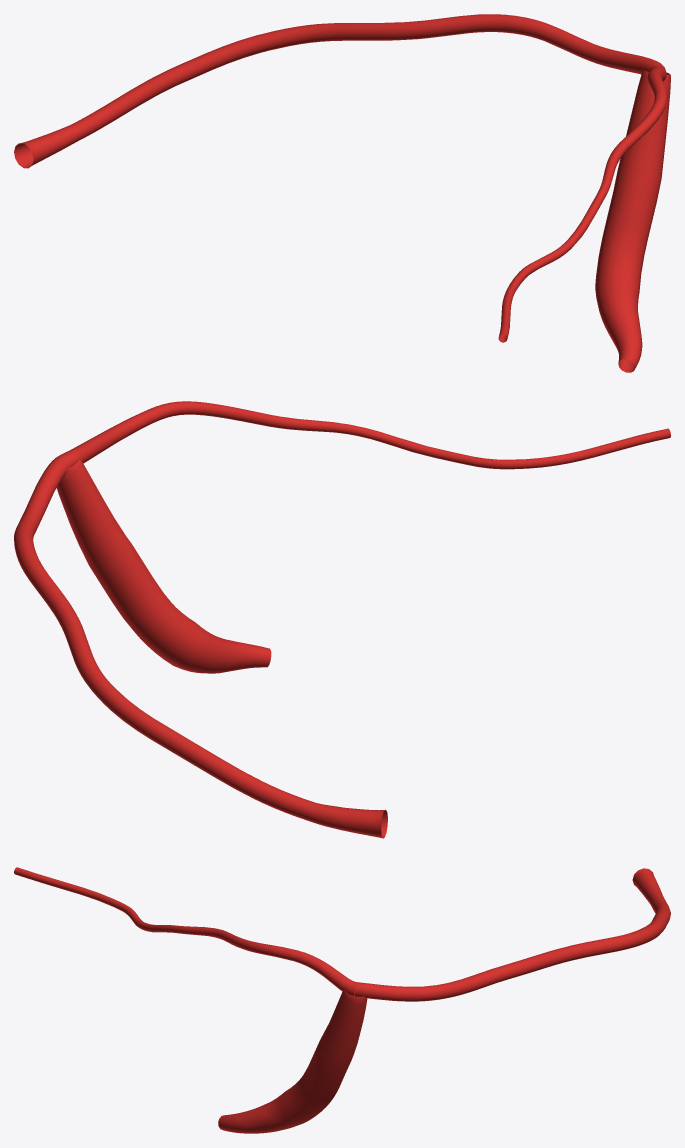
Rendered from circulatorio-sigmoid-sinus-l.glb.
3 renders of one model, top to bottom at view 1: azimuth 30°, elevation 25°; view 2: azimuth 150°, elevation 25°; view 3: azimuth 270°, elevation 25°, orthographic. The views are drawn at different scales.
Parts seen in each view (by area): view 1: Transverse sinus.l, Sigmoid sinus.l, Superior petrosal sinus.l; view 2: Sigmoid sinus.l, Transverse sinus.l, Superior petrosal sinus.l; view 3: Sigmoid sinus.l, Transverse sinus.l, Superior petrosal sinus.l.
Boxes of the visible parts, bbox=[...] form: Transverse sinus.l: bbox=[14, 14, 662, 168]; Sigmoid sinus.l: bbox=[595, 70, 670, 372]; Superior petrosal sinus.l: bbox=[498, 64, 667, 342]; Sigmoid sinus.l: bbox=[56, 459, 271, 673]; Transverse sinus.l: bbox=[14, 454, 387, 838]; Superior petrosal sinus.l: bbox=[61, 401, 670, 469]; Sigmoid sinus.l: bbox=[218, 990, 367, 1133]; Transverse sinus.l: bbox=[354, 868, 670, 1001]; Superior petrosal sinus.l: bbox=[14, 867, 356, 996].
Bounding box in the file's own units: 0.0614 × 0.0304 × 0.0863.
